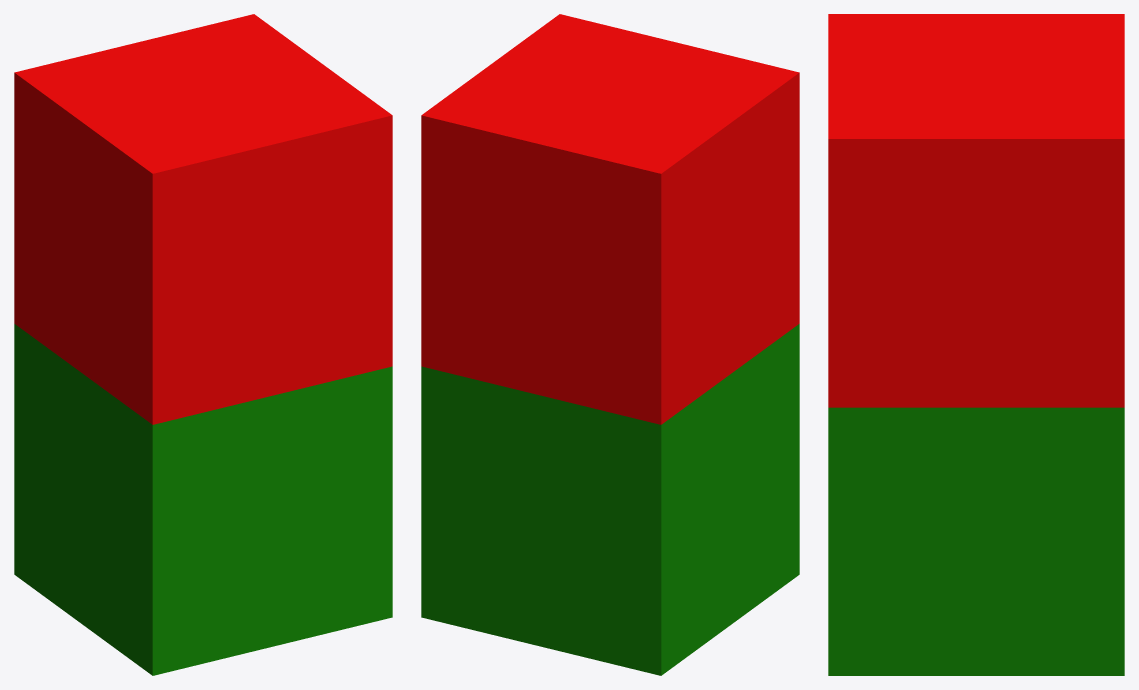
Rendered from (1) Red Flower (Stage 2).obj.
3 views of the same model, side by side, from view 1: azimuth 30°, elevation 25°; view 2: azimuth 150°, elevation 25°; view 3: azimuth 270°, elevation 25° (orthographic). The views are drawn at different scales.
Size of the model in its own units: 0.1 by 0.2 by 0.1.
Materials: 1 (1 with a texture image).
